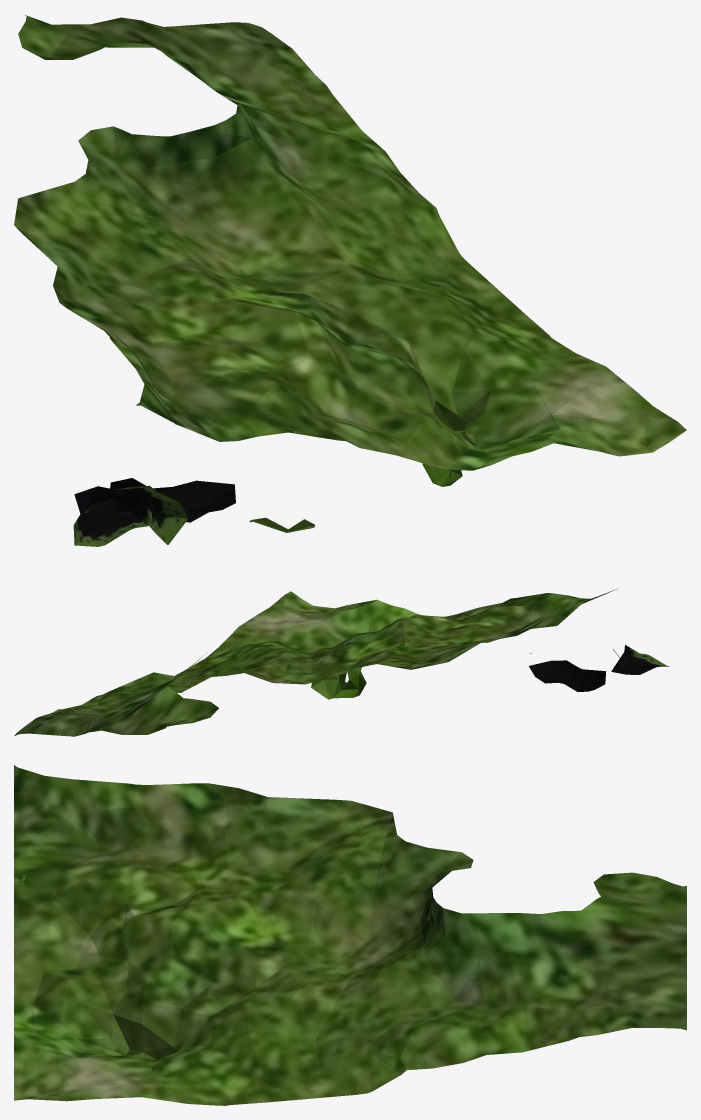
3 renders of one model, top to bottom at view 1: azimuth 30°, elevation 25°; view 2: azimuth 150°, elevation 25°; view 3: azimuth 270°, elevation 25°, orthographic. The views are drawn at different scales.
Bounding box in the file's own units: 1.38 × 0.4917 × 1.67.
Materials: 2 (2 with a texture image).
